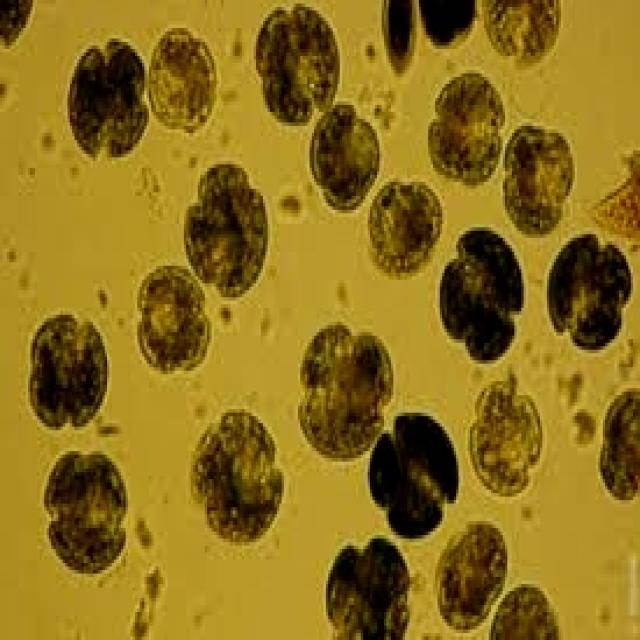Karenia: (188, 411, 283, 549), (298, 323, 391, 460), (253, 8, 349, 124), (184, 168, 269, 298), (373, 418, 461, 534), (67, 35, 149, 159), (444, 230, 523, 358), (44, 458, 129, 572), (552, 237, 631, 355), (470, 380, 548, 498), (323, 545, 412, 640), (433, 74, 507, 185), (30, 318, 106, 426), (135, 273, 211, 376), (311, 99, 380, 211), (153, 21, 220, 136), (506, 127, 576, 237), (437, 527, 513, 622), (373, 181, 441, 273), (483, 1, 567, 71)
